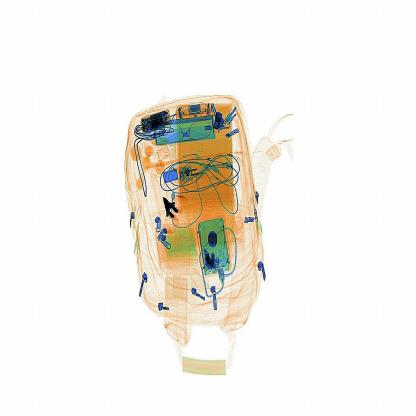gun: (158, 192, 188, 244)
